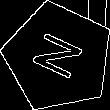N_SE: (27, 28, 90, 86)
